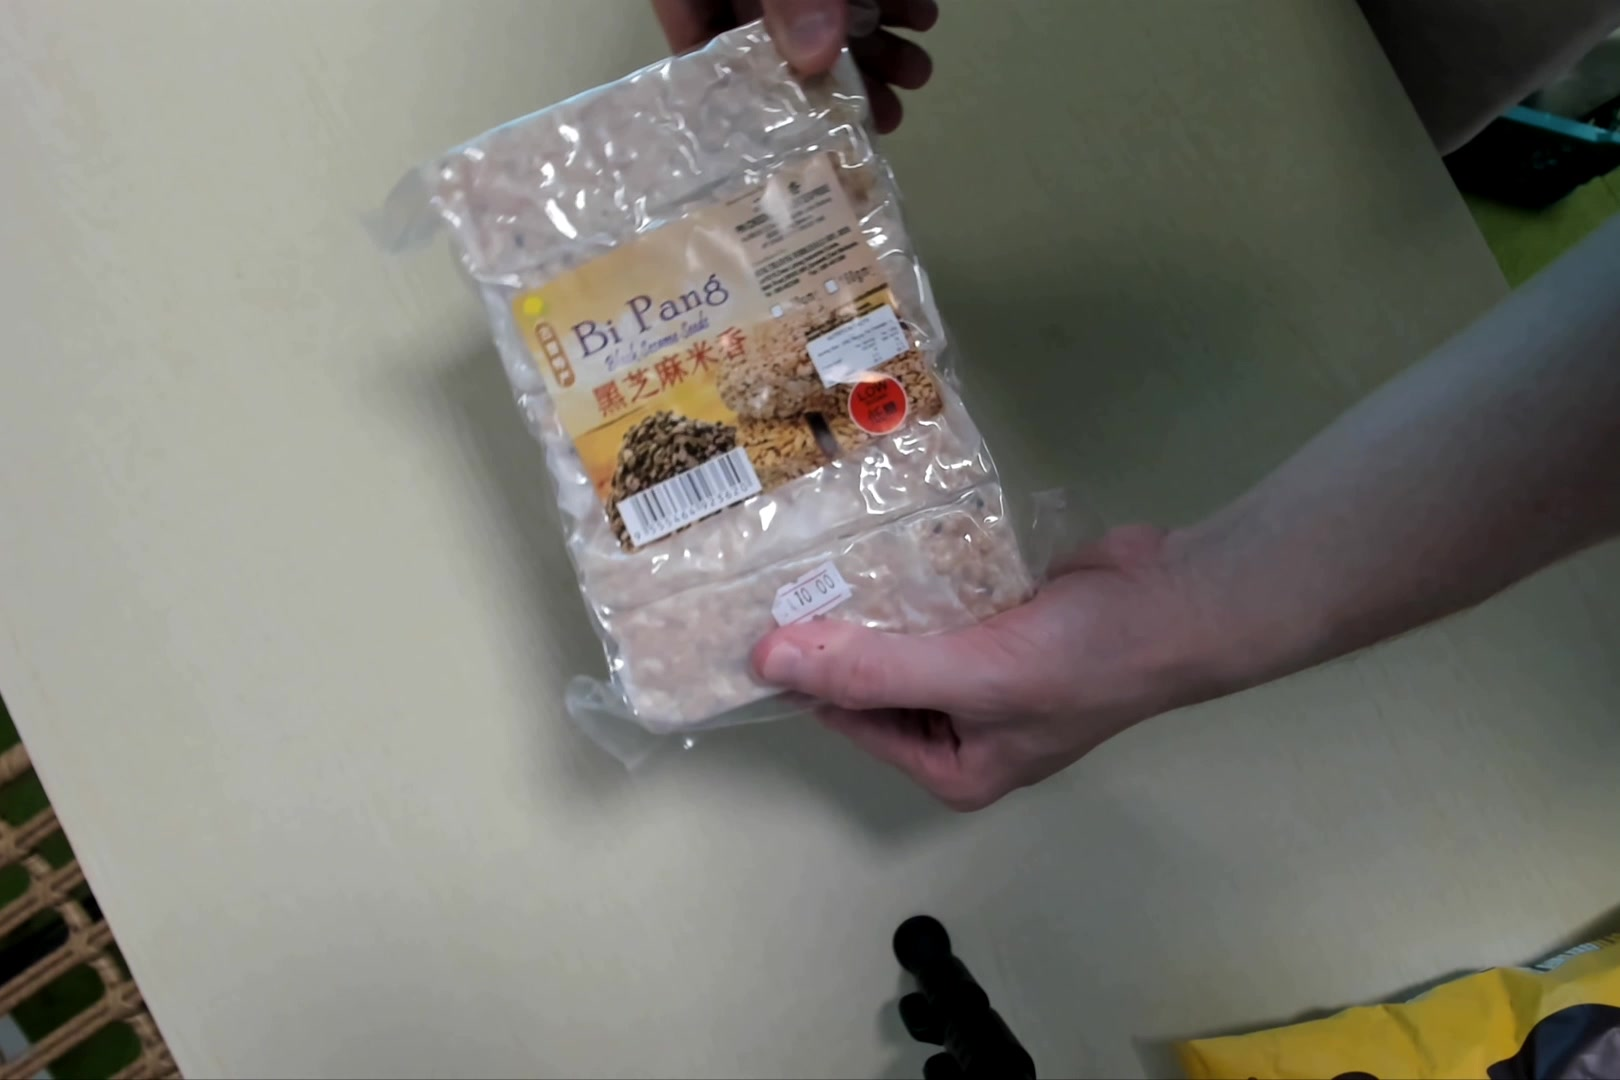PotatoChipsKeropok_100-199g_NonHalal_NonHealthy: (413, 11, 1057, 742)
